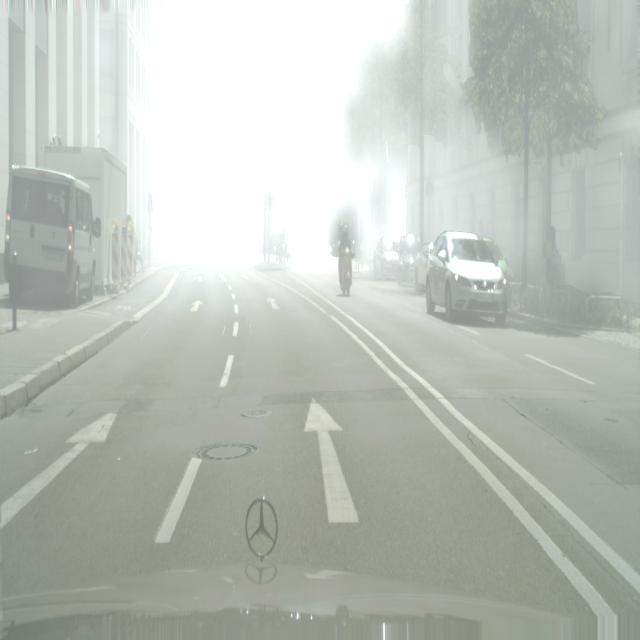bus: (335, 219, 357, 297)
car: (271, 226, 292, 269)
rider: (4, 163, 99, 308)
truck: (425, 231, 512, 326), (372, 237, 400, 281), (397, 234, 421, 284), (414, 240, 434, 293)
